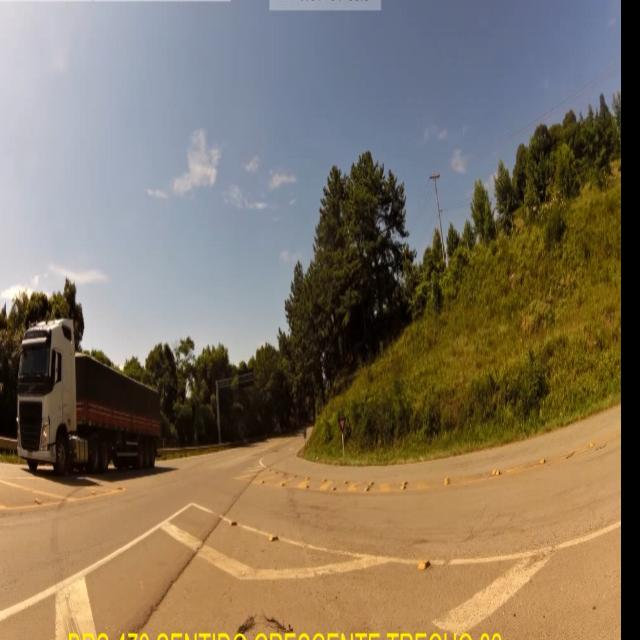R-2: (336, 416, 349, 431)
